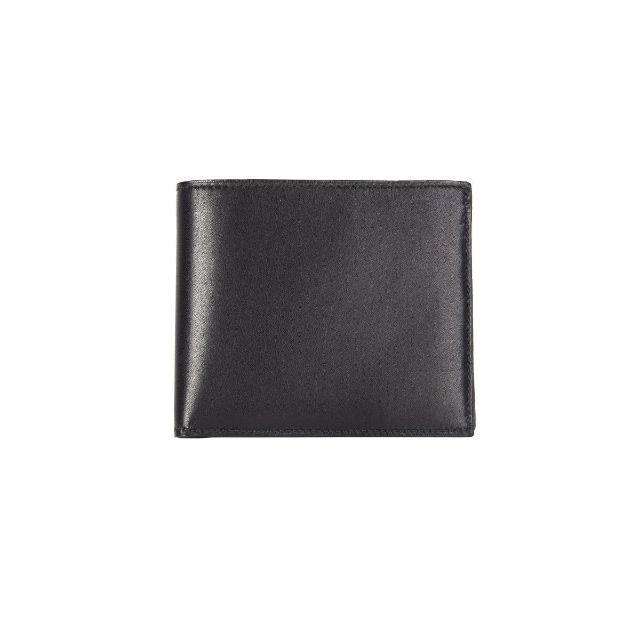wallet: (170, 175, 478, 442)
